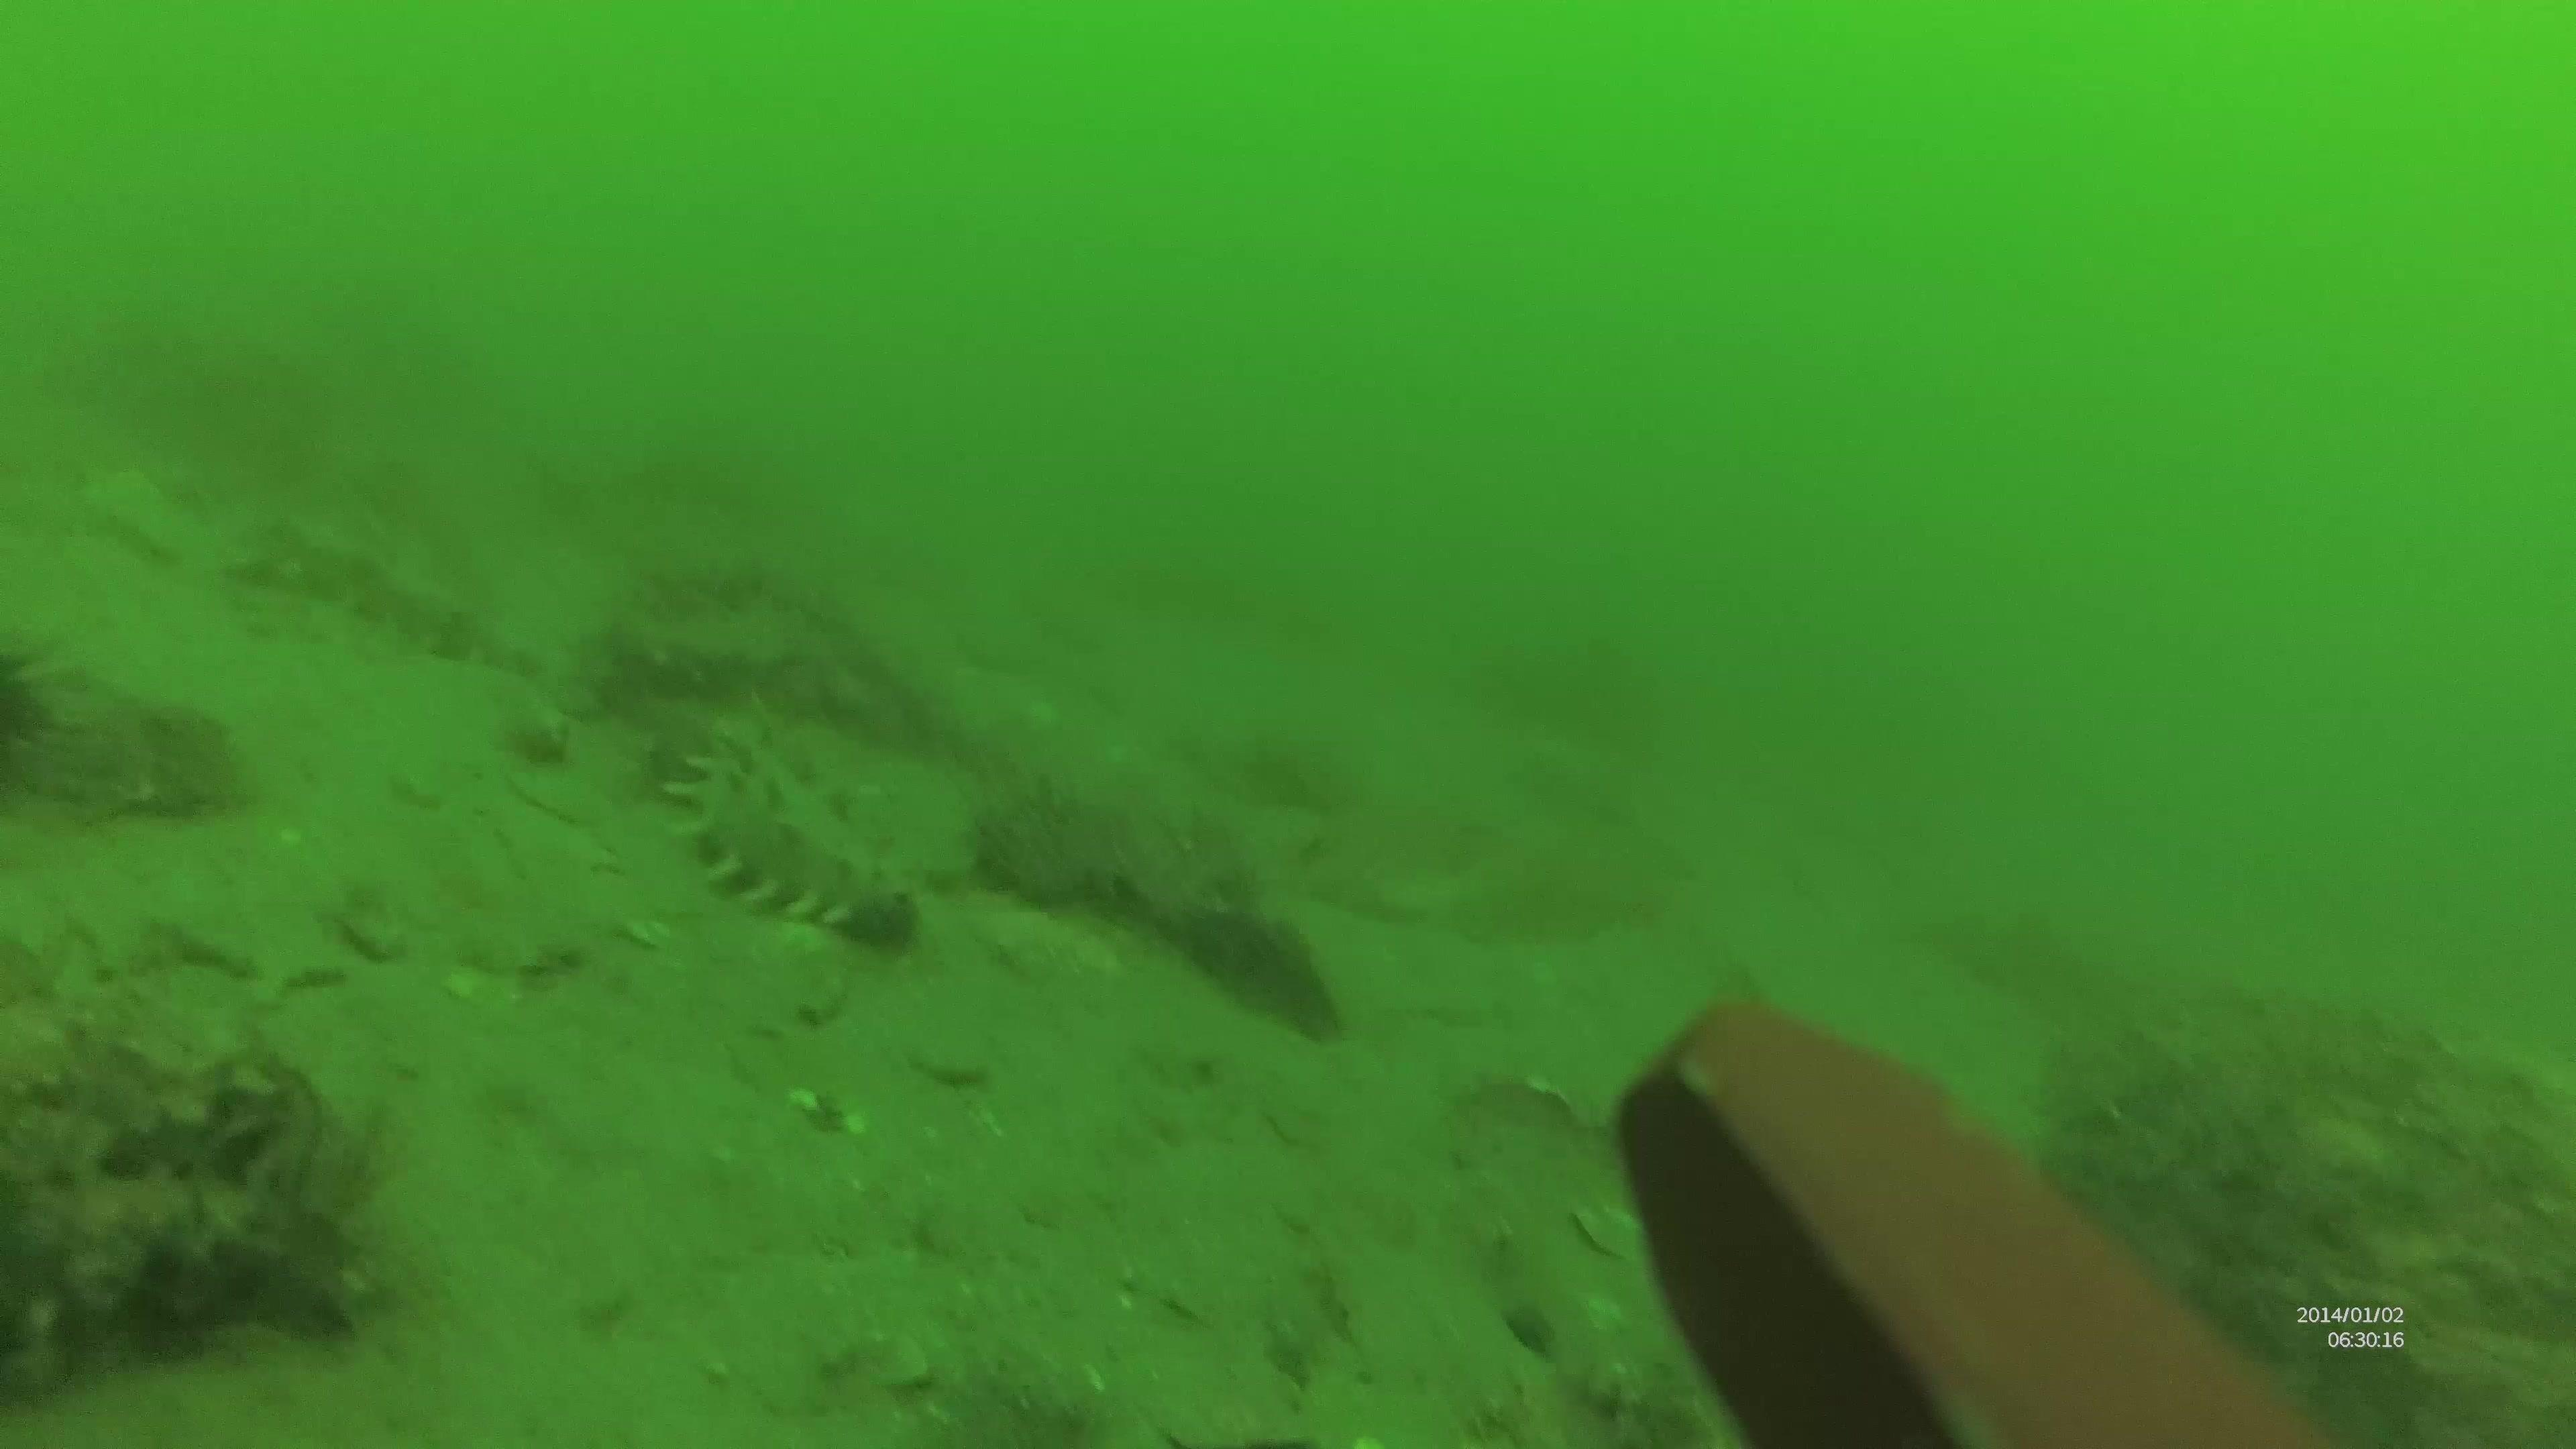echinus: (0, 637, 87, 830)
holothurian: (662, 702, 924, 950), (280, 518, 541, 676)
